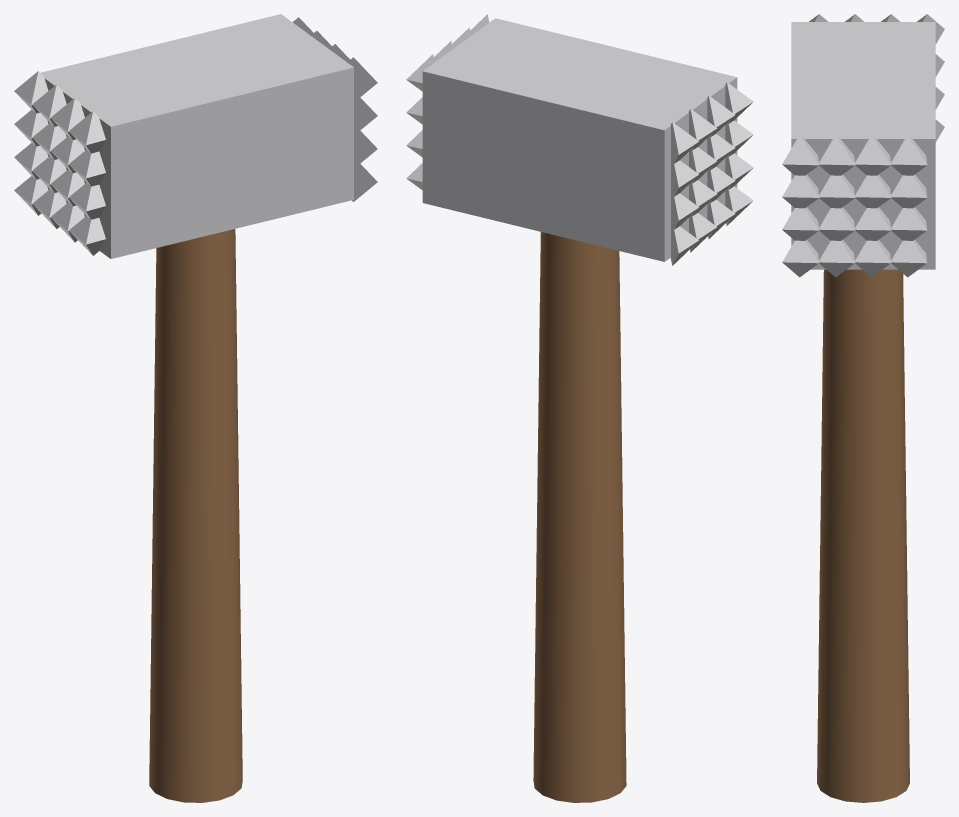
File: MeatTenderizer.fbx
3 views of the same model, side by side, from view 1: azimuth 30°, elevation 25°; view 2: azimuth 150°, elevation 25°; view 3: azimuth 270°, elevation 25° (orthographic).
Visible parts, largest first — view 1: MeatTenderizer; view 2: MeatTenderizer; view 3: MeatTenderizer.
Boxes of the visible parts, x1,y1,x2,y2 form: MeatTenderizer: (14, 14, 377, 802); MeatTenderizer: (406, 14, 753, 802); MeatTenderizer: (782, 14, 944, 802).
Size of the model in its own units: 58.54 by 141 by 29.4.
